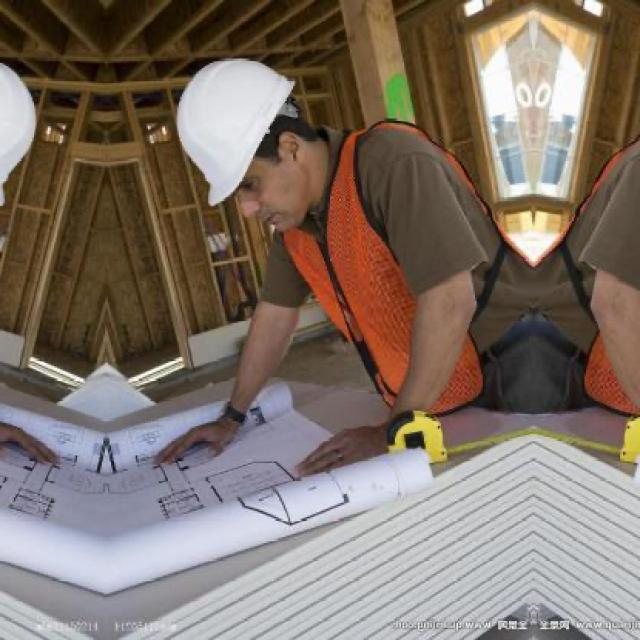helmet: (163, 39, 334, 246), (1, 37, 49, 246)
